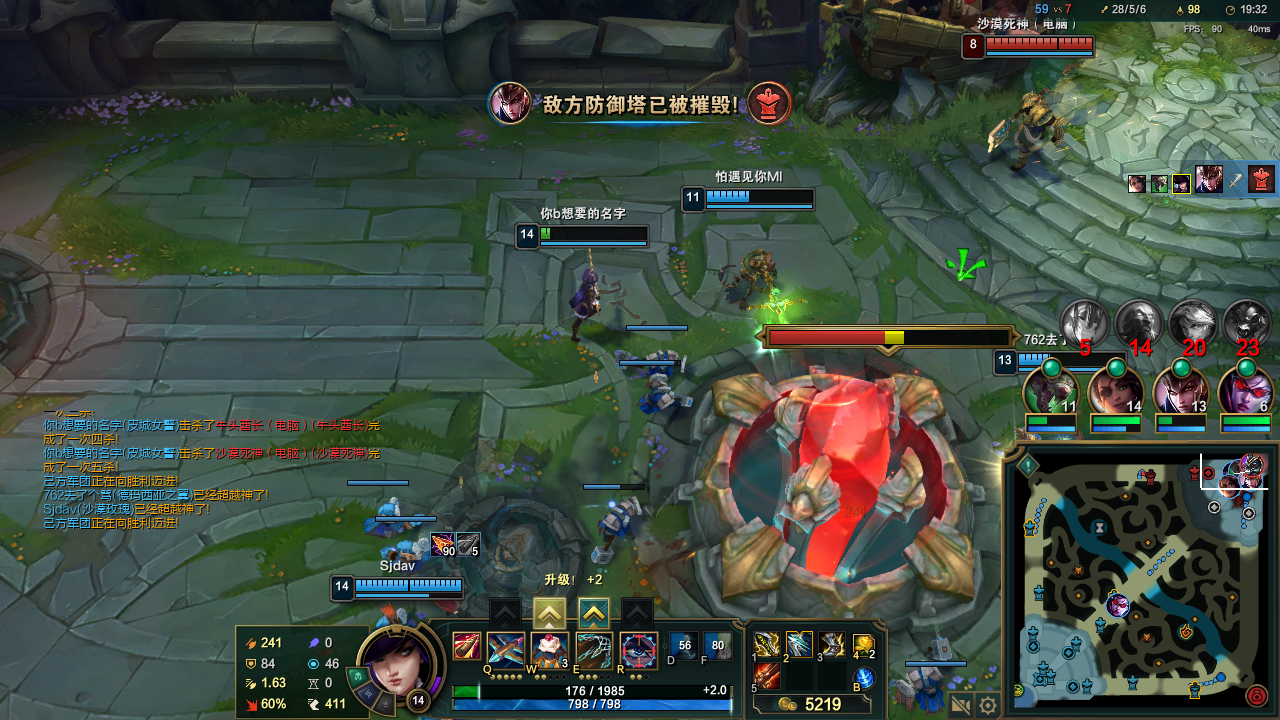DFDSJ: (711, 329, 974, 608)
DFYX: (982, 37, 1090, 51)
Shenji: (581, 601, 601, 620)
Tuijianshengji: (537, 599, 562, 622)
WFXB: (594, 496, 649, 540), (643, 339, 687, 377), (638, 376, 678, 407), (375, 544, 428, 567), (907, 666, 945, 698), (373, 504, 405, 529)
